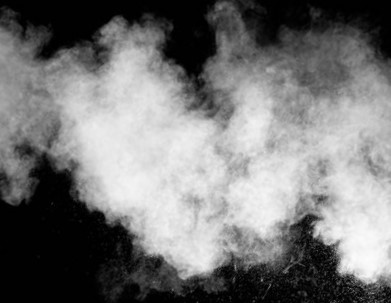smoke: (6, 13, 391, 281)
